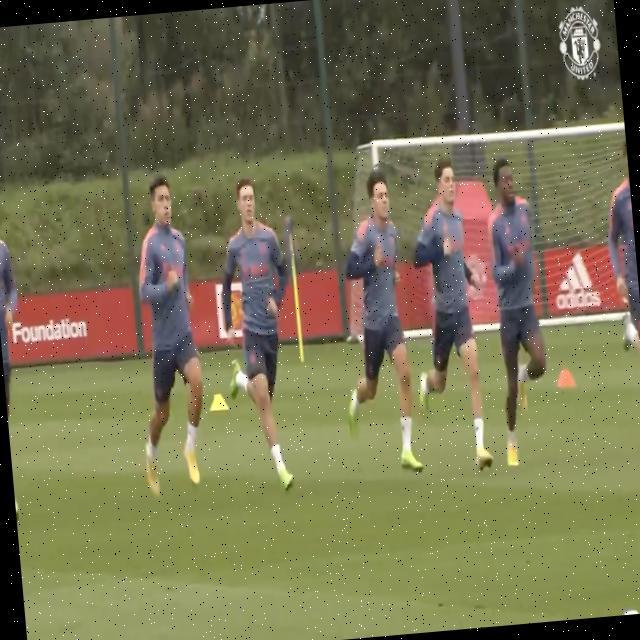Adidas: (550, 252, 601, 313)
